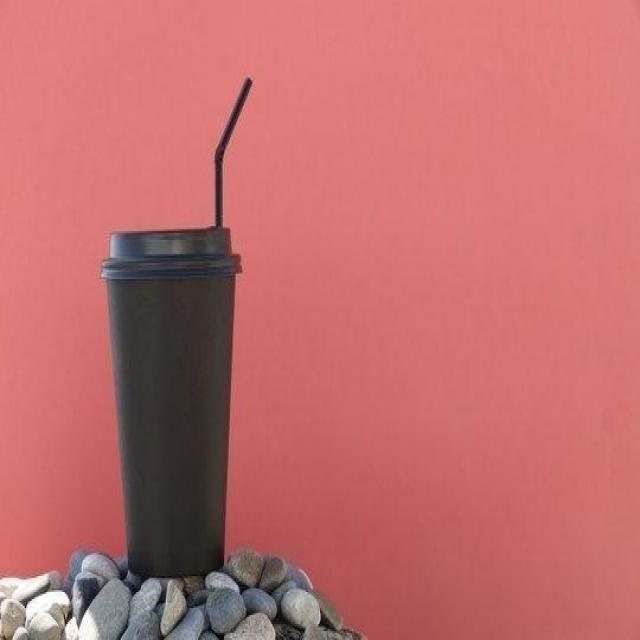cup-disposable: (98, 217, 245, 579)
